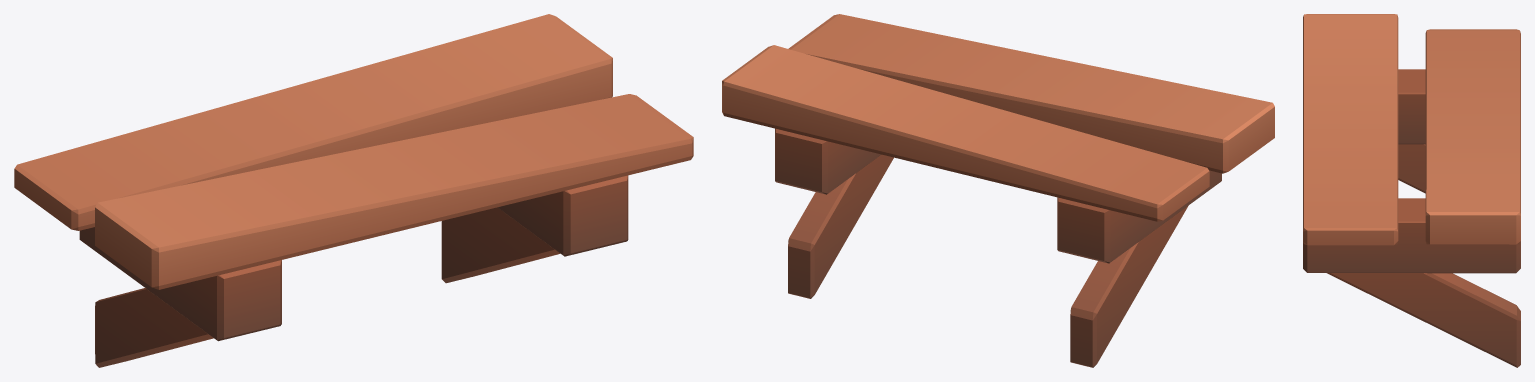
The model's file is kenney-platformer__platform-overhang.glb.
The picture shows the model from 3 angles, left to right: view 1: azimuth 30°, elevation 25°; view 2: azimuth 150°, elevation 25°; view 3: azimuth 270°, elevation 25°; orthographic projection. The views are drawn at different scales.
Parts seen in each view (by area): view 1: platform-overhang; view 2: platform-overhang; view 3: platform-overhang.
Part boxes in pixels (left/top/right/bottom): platform-overhang: left=14, top=14, right=693, bottom=367; platform-overhang: left=722, top=14, right=1274, bottom=367; platform-overhang: left=1303, top=14, right=1520, bottom=367.
Size of the model in its own units: 1 by 0.4281 by 0.4577.
1 material, 1 textured.
